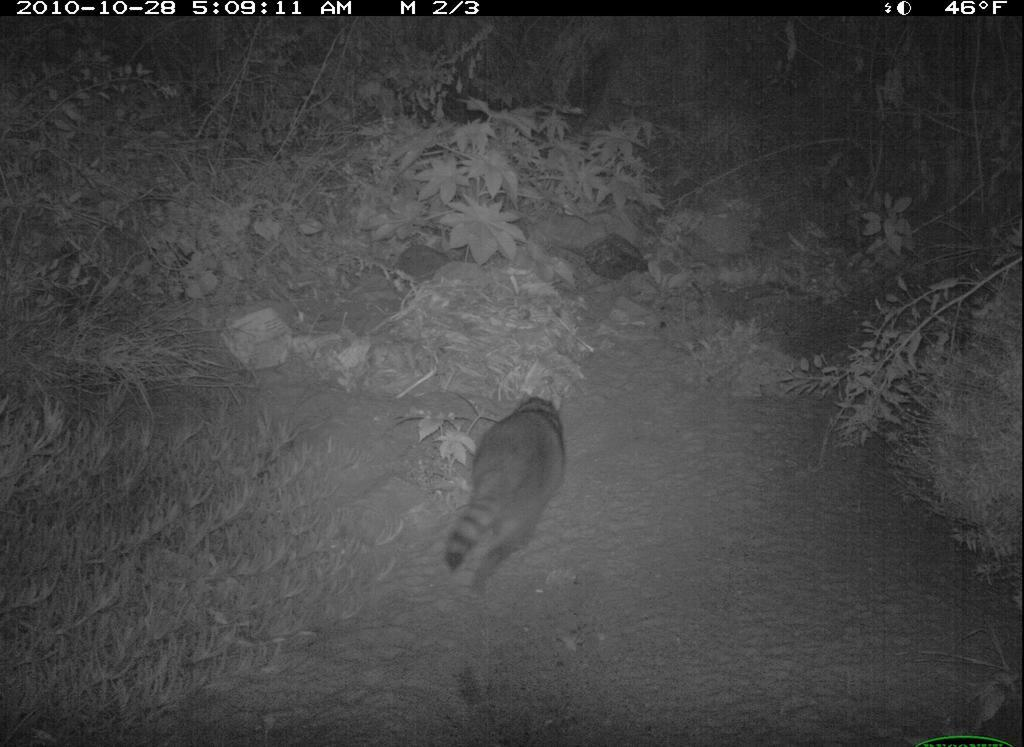raccoon: (427, 386, 575, 607)
